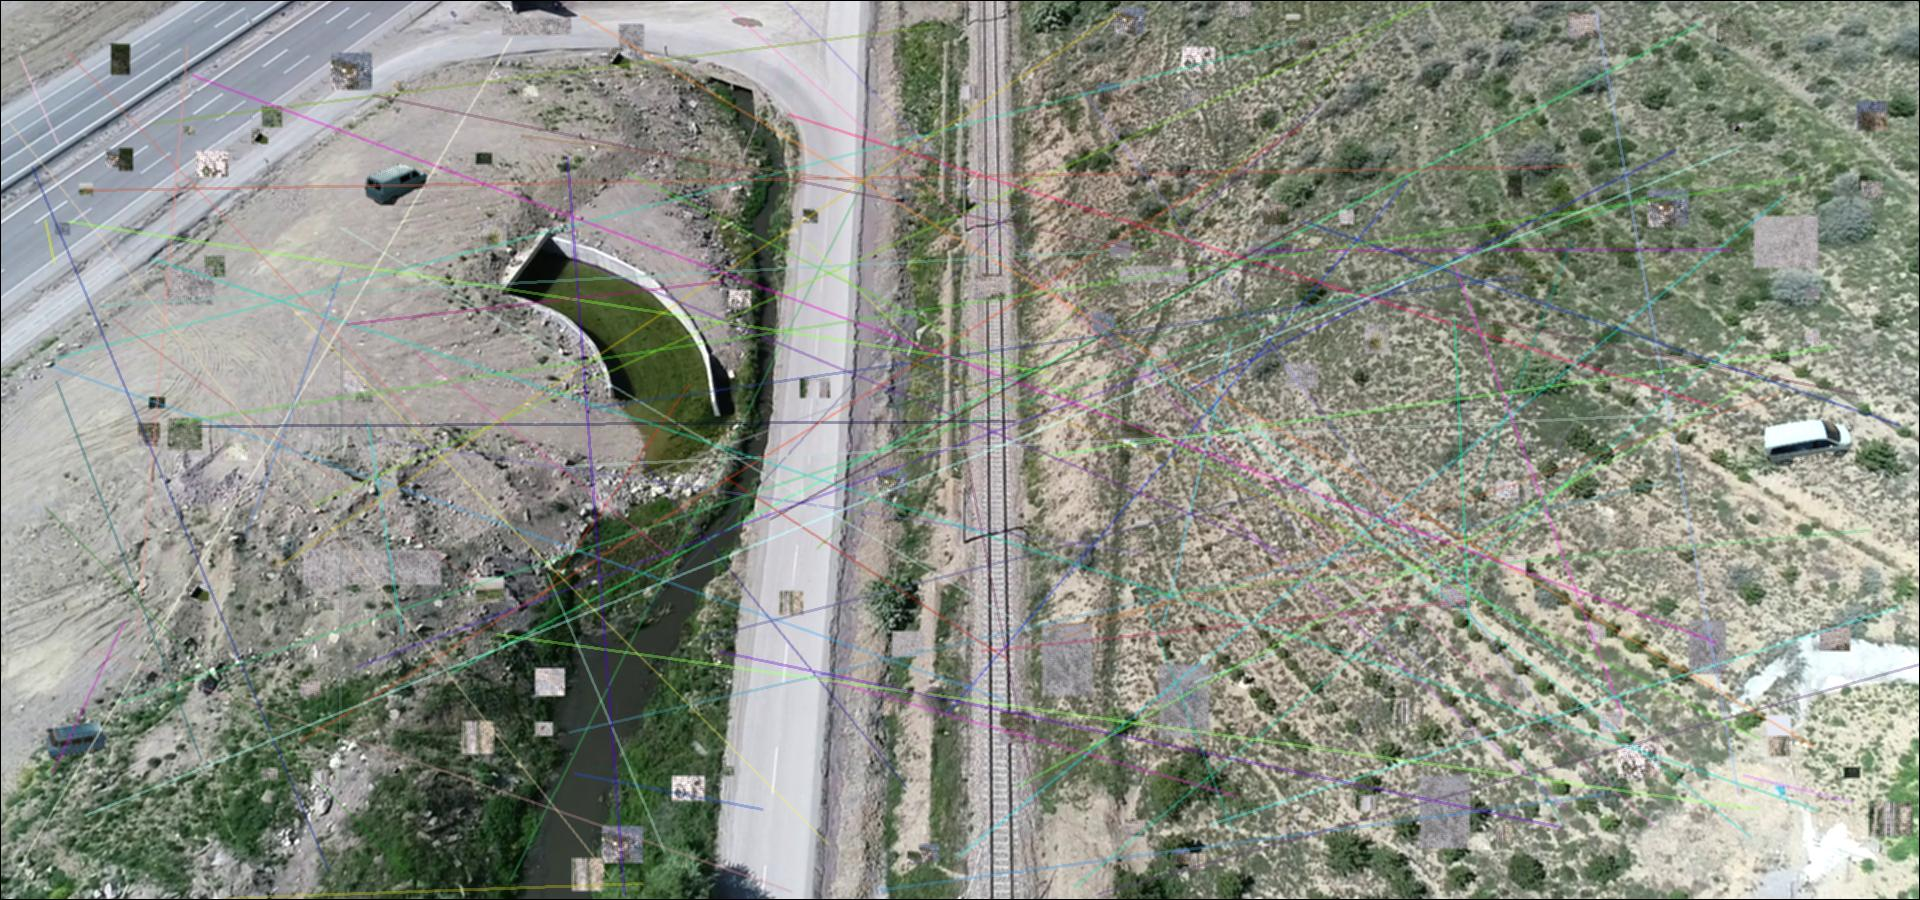arac: (1762, 419, 1853, 467), (43, 721, 111, 762), (365, 162, 427, 204)
